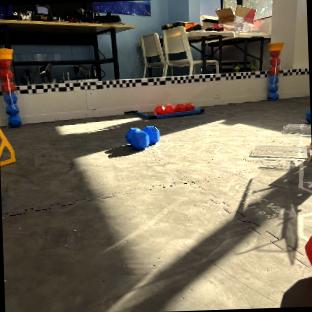V5_BLUE: (126, 126, 159, 150)
V5_RED: (0, 61, 20, 125), (268, 44, 282, 99), (155, 104, 194, 115)
